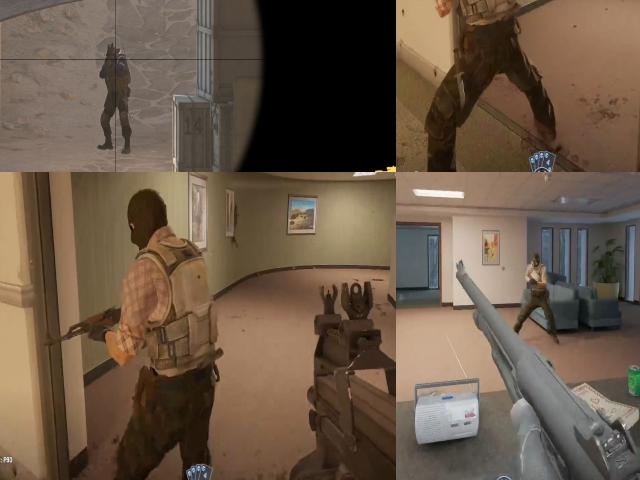CT: (106, 46, 130, 150)
CT-Head: (107, 47, 116, 63)
T: (102, 202, 226, 382), (434, 0, 530, 33), (524, 250, 552, 312)
T-Head: (122, 186, 182, 253), (528, 251, 546, 271)
